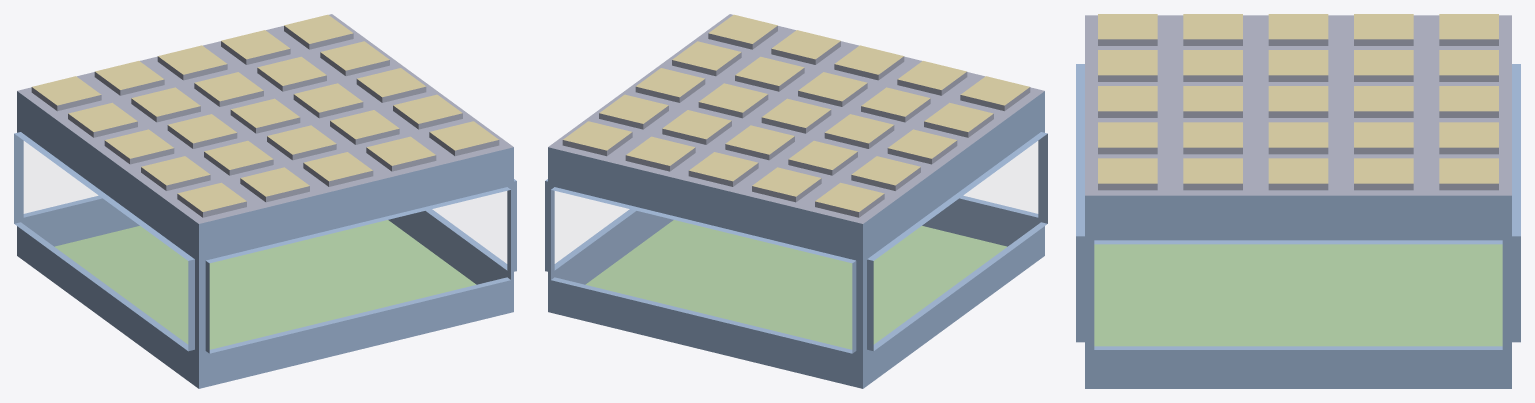
Rendered from room.fbx.
The picture shows the model from 3 angles, left to right: view 1: azimuth 30°, elevation 25°; view 2: azimuth 150°, elevation 25°; view 3: azimuth 270°, elevation 25°; orthographic projection. The views are drawn at different scales.
Visible parts, largest first — view 1: Cube, Cube.001; view 2: Cube, Cube.001; view 3: Cube, Cube.001.
Boxes of the visible parts, x1,y1,x2,y2 form: Cube: (14, 91, 516, 388); Cube.001: (17, 14, 513, 223); Cube: (545, 91, 1047, 388); Cube.001: (548, 14, 1044, 223); Cube: (1076, 64, 1520, 388); Cube.001: (1085, 14, 1511, 195).
Bounding box in the file's own units: 626 × 310 × 626.
